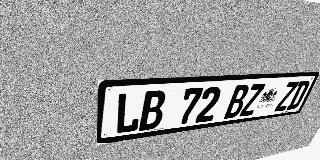2: (195, 86, 223, 123)
7: (176, 88, 204, 126)
B: (139, 90, 167, 131), (223, 84, 251, 119)
D: (286, 80, 311, 110)
L: (114, 92, 143, 134)
Z: (239, 83, 266, 117), (274, 81, 299, 112)
